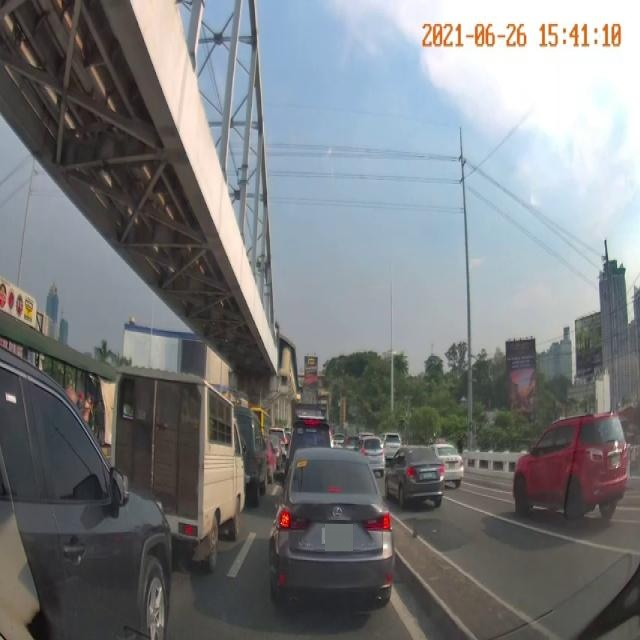car: (0, 385, 178, 634), (515, 405, 622, 531), (390, 444, 442, 516), (358, 433, 384, 471)
